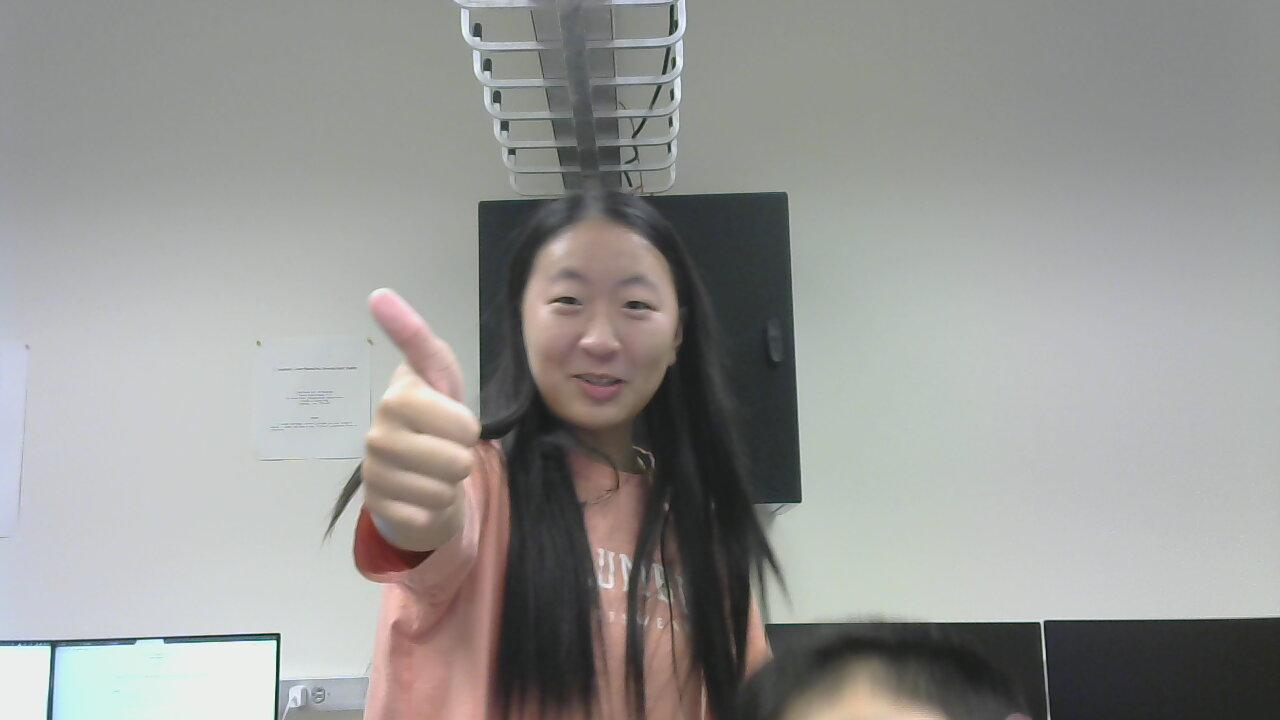hands: (353, 270, 479, 564)
